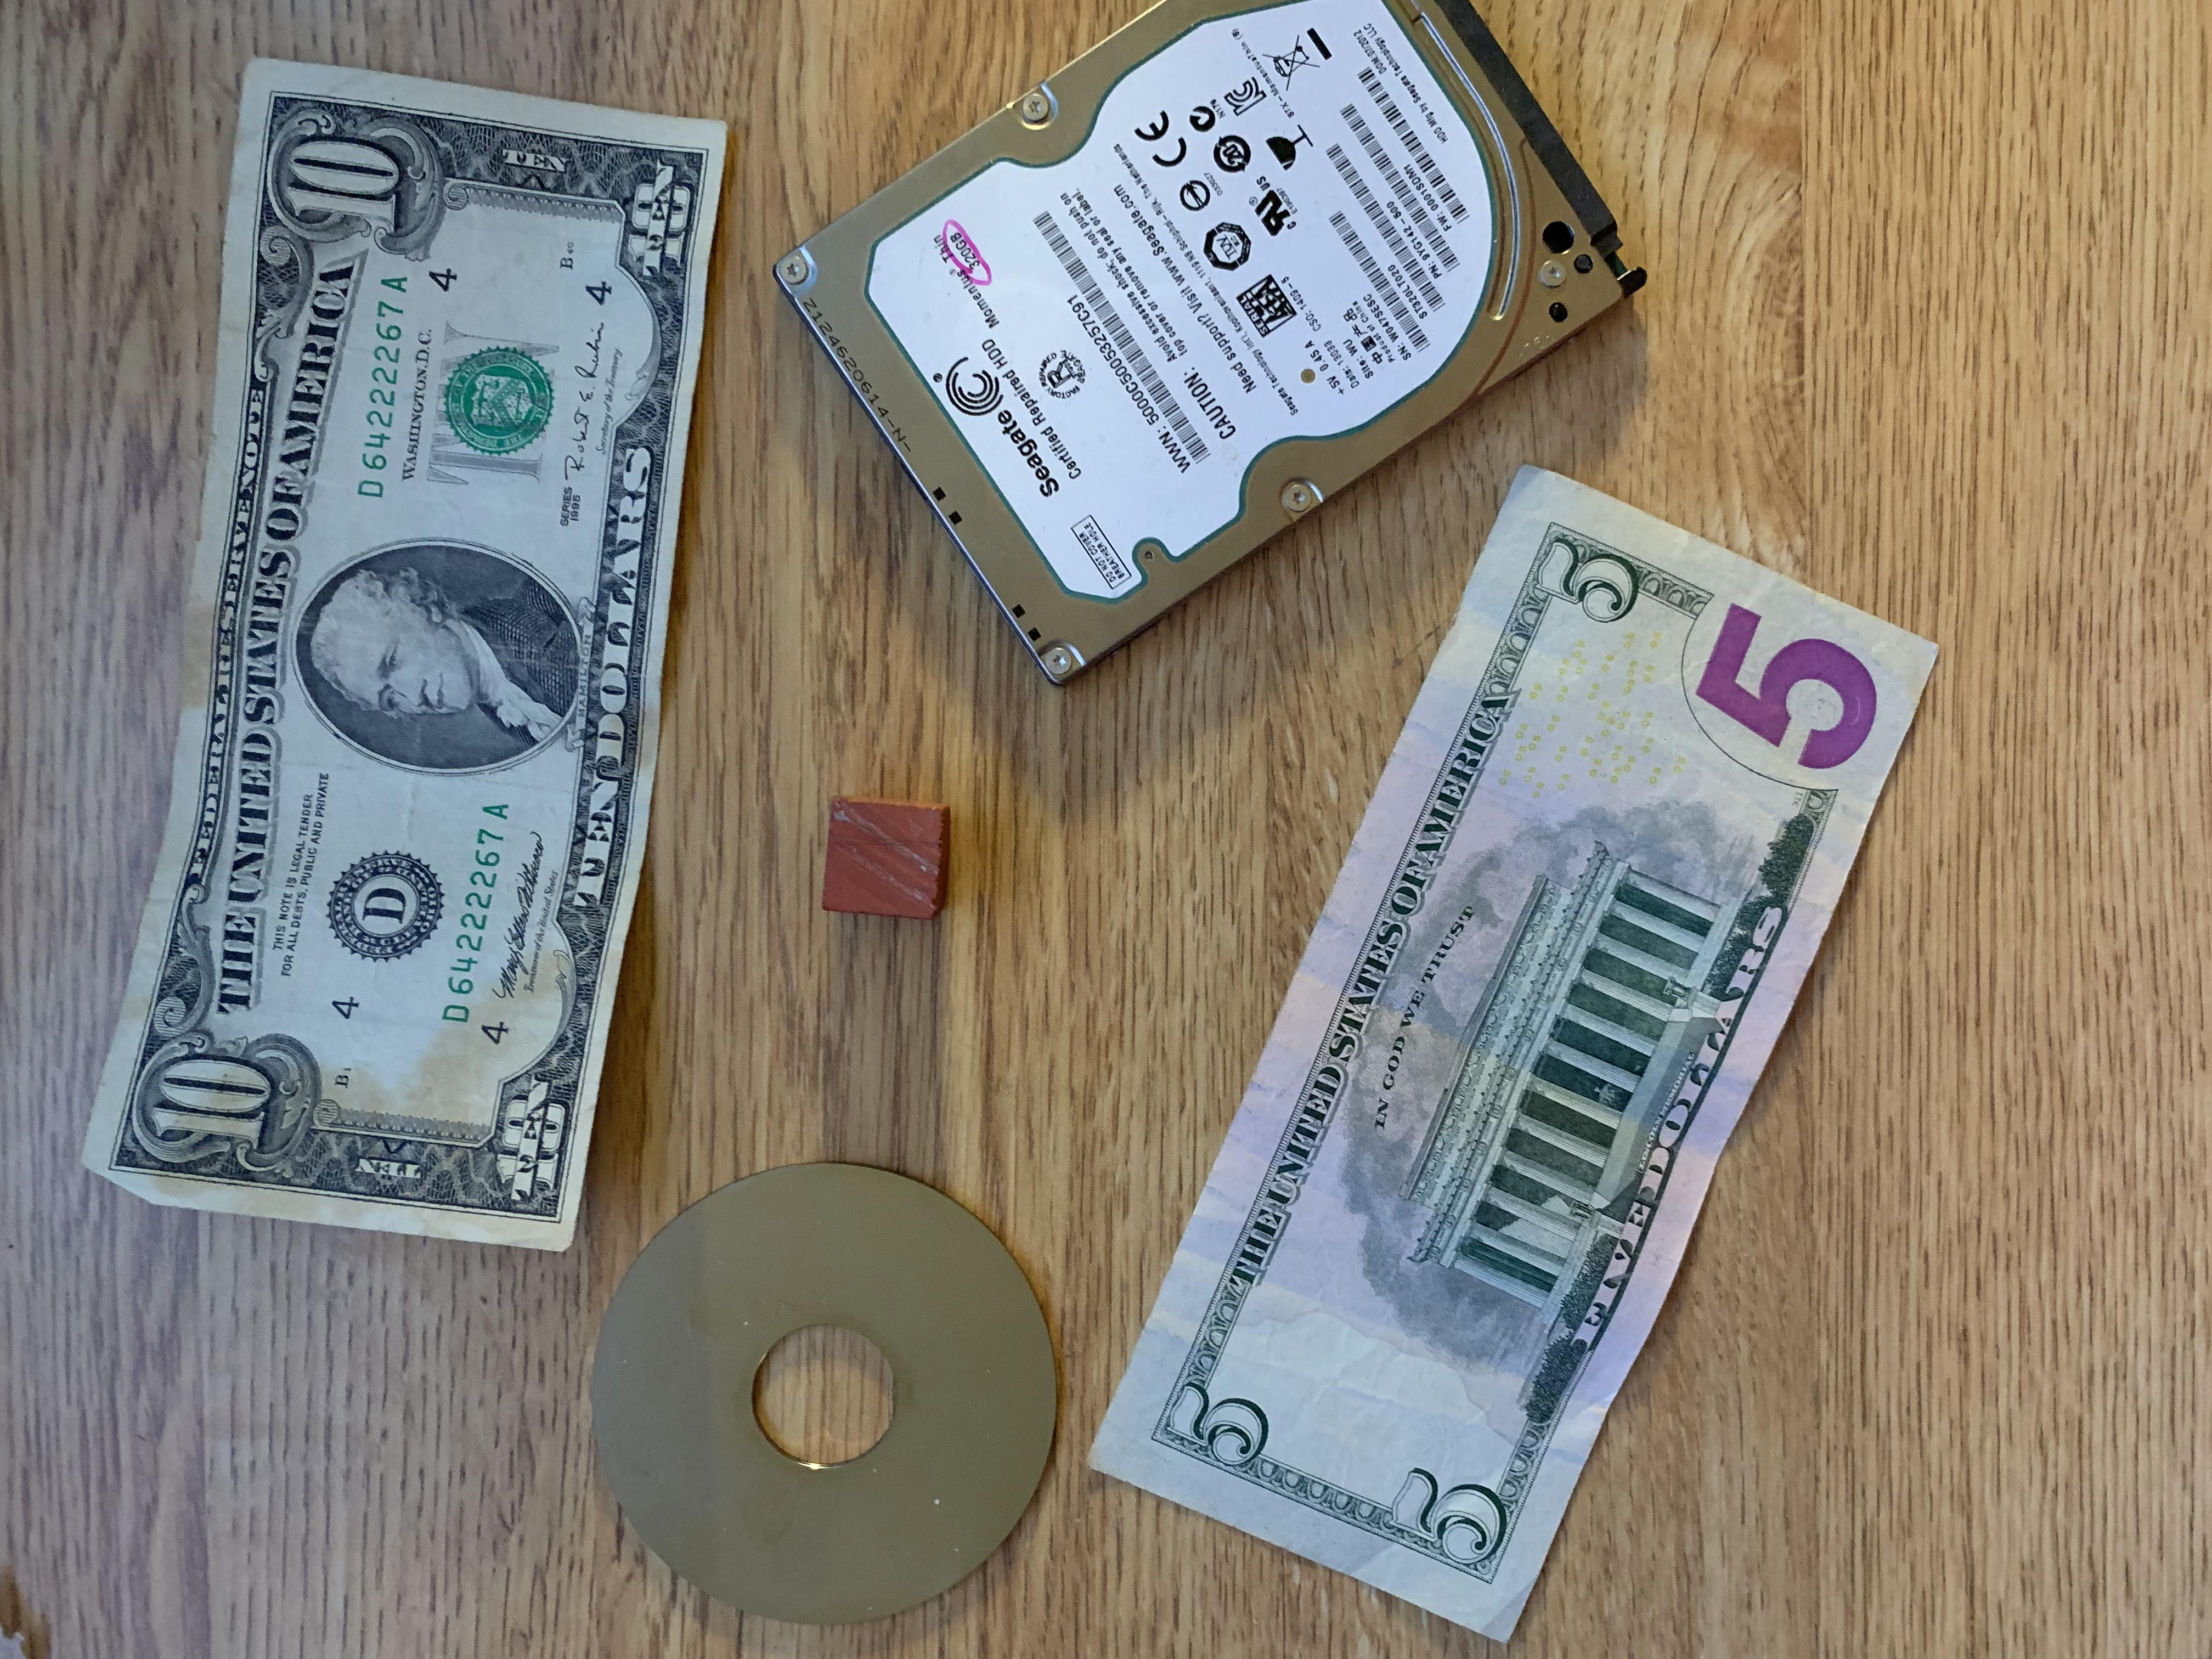FiveBill: (1082, 460, 1946, 1643)
TenBill: (66, 54, 733, 1253)
